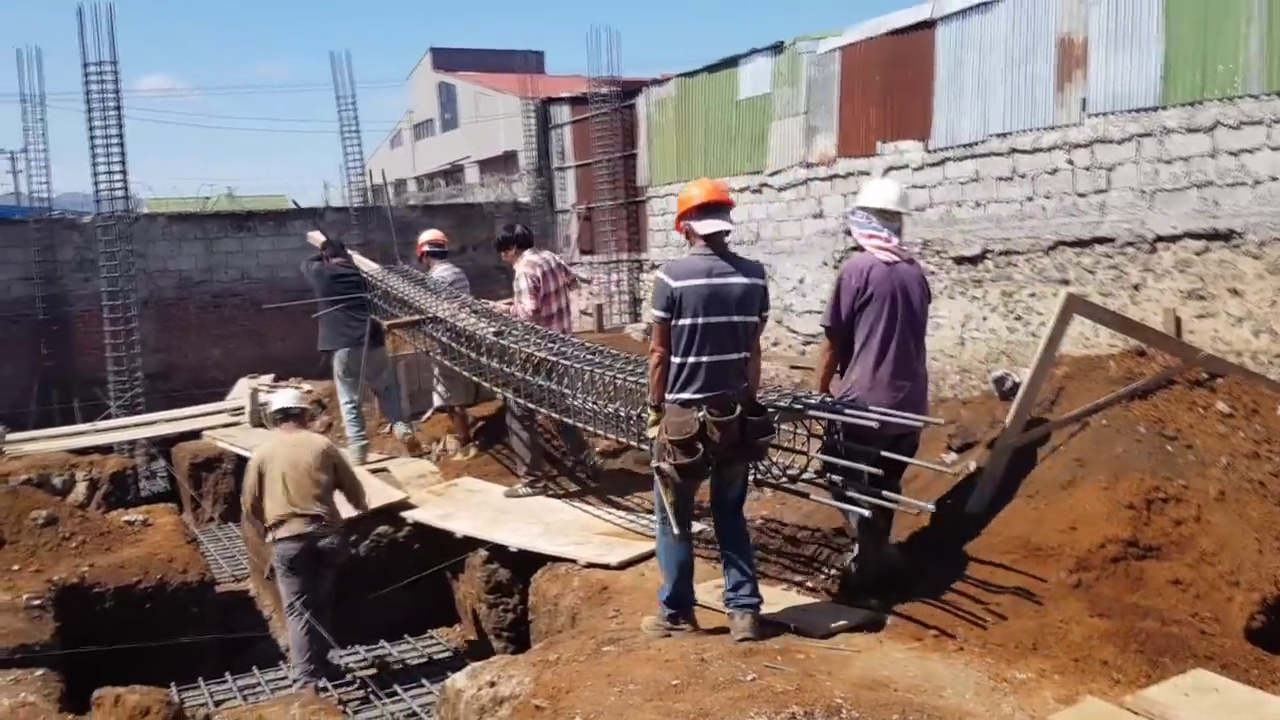helmet: (673, 176, 740, 235), (850, 177, 913, 227), (260, 385, 311, 419), (415, 228, 450, 257)
helmet-off: (490, 217, 534, 268), (320, 237, 347, 262)
helmet-on: (850, 170, 912, 263), (678, 177, 743, 260), (259, 386, 312, 434), (414, 228, 450, 269)
person: (638, 174, 777, 649), (807, 178, 938, 619), (236, 380, 377, 690), (492, 215, 591, 491), (412, 229, 491, 462), (302, 236, 376, 466)
